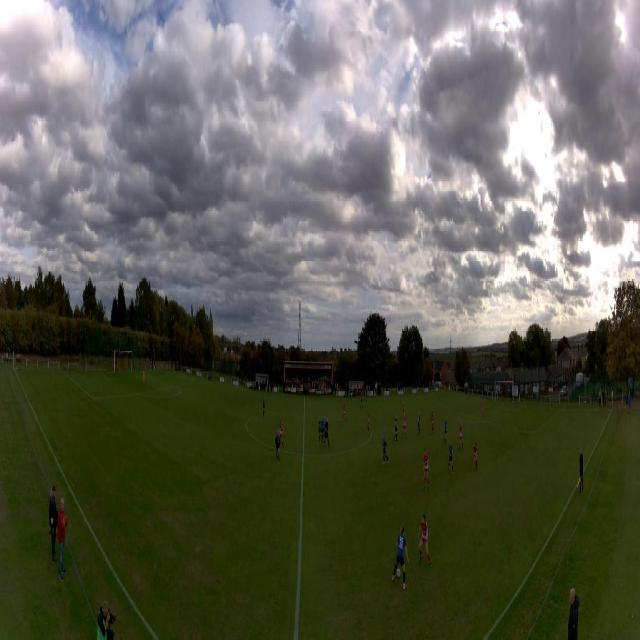ball: (396, 569, 401, 579)
player: (391, 524, 410, 591), (418, 512, 432, 567), (423, 448, 429, 490), (381, 435, 389, 466), (323, 418, 331, 447), (275, 428, 281, 462), (318, 415, 325, 443), (279, 420, 285, 449), (448, 440, 453, 474), (473, 442, 478, 471), (401, 414, 407, 438), (459, 422, 463, 450), (443, 418, 447, 445), (394, 415, 398, 442), (431, 410, 435, 435), (342, 403, 347, 422), (366, 412, 370, 432), (418, 413, 421, 435), (263, 395, 266, 417), (402, 400, 405, 420), (142, 368, 145, 387), (481, 401, 484, 418), (360, 393, 362, 409)
